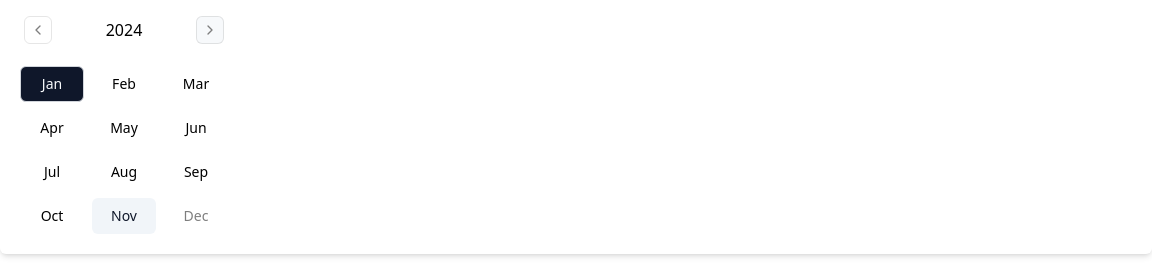
Test case: MonthPicker › changes to the previous year when clicking the previous button
Click the button named "go to previous year" at (38, 30), box [24,16,52,44]
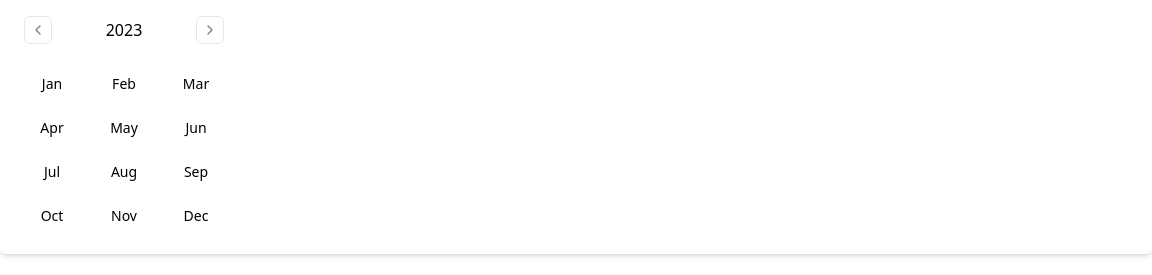
expect the text "2023" is shown: met, box [106,18,142,42]
